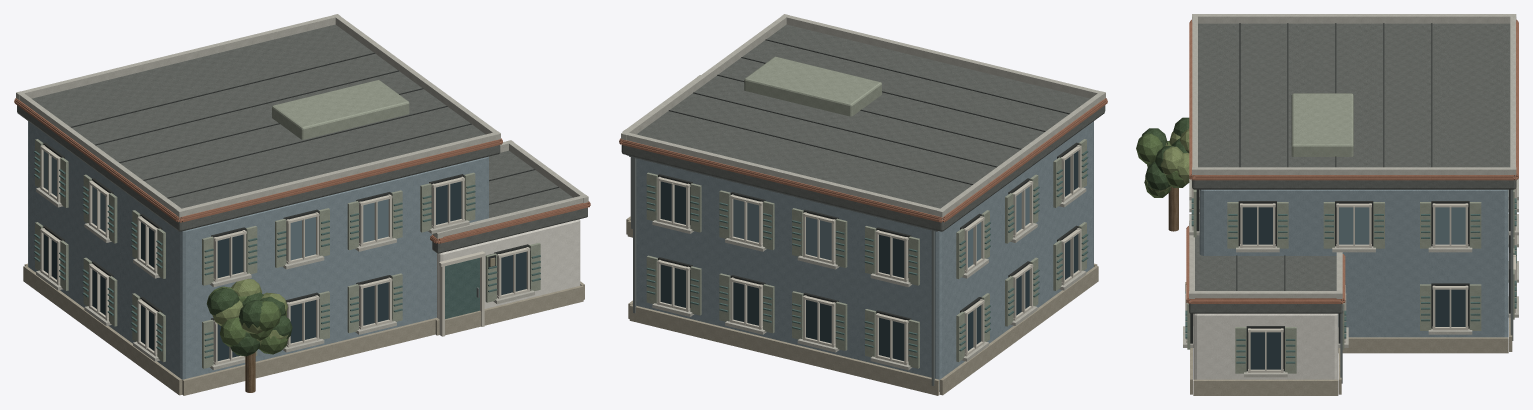
The model's file is RES_LUX_2x2_002.glb.
The picture shows the model from 3 angles, left to right: view 1: azimuth 30°, elevation 25°; view 2: azimuth 150°, elevation 25°; view 3: azimuth 270°, elevation 25°; orthographic projection.
Parts seen in each view (by area): view 1: RES_LUX_2x2_002_Visual; view 2: RES_LUX_2x2_002_Visual; view 3: RES_LUX_2x2_002_Visual.
Boxes of the visible parts, bbox=[...] form: RES_LUX_2x2_002_Visual: bbox=[14, 14, 590, 395]; RES_LUX_2x2_002_Visual: bbox=[619, 14, 1107, 395]; RES_LUX_2x2_002_Visual: bbox=[1136, 14, 1518, 395].
Size of what is drawn, in the model's own units: 3.76 by 1.67 by 3.03.
Materials: 18 (12 with a texture image).
